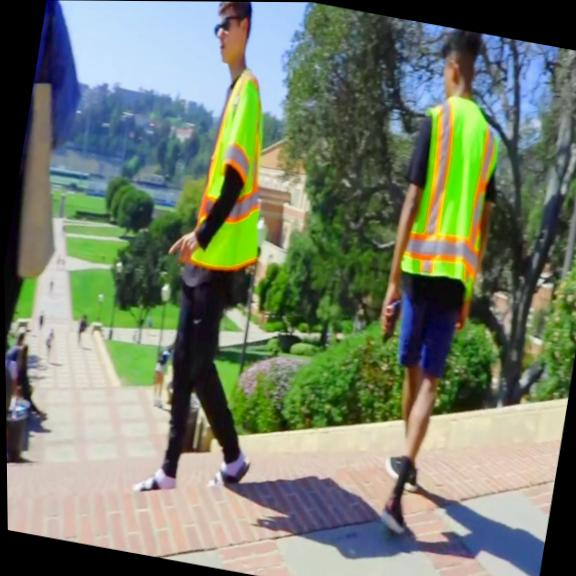safety_vest: (393, 89, 507, 296), (184, 64, 289, 278)
